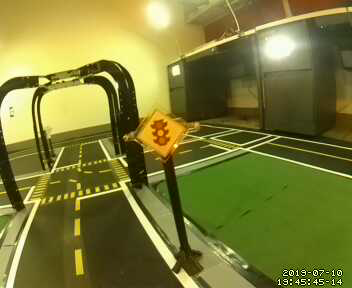Traffic light sign: (135, 107, 185, 159)
